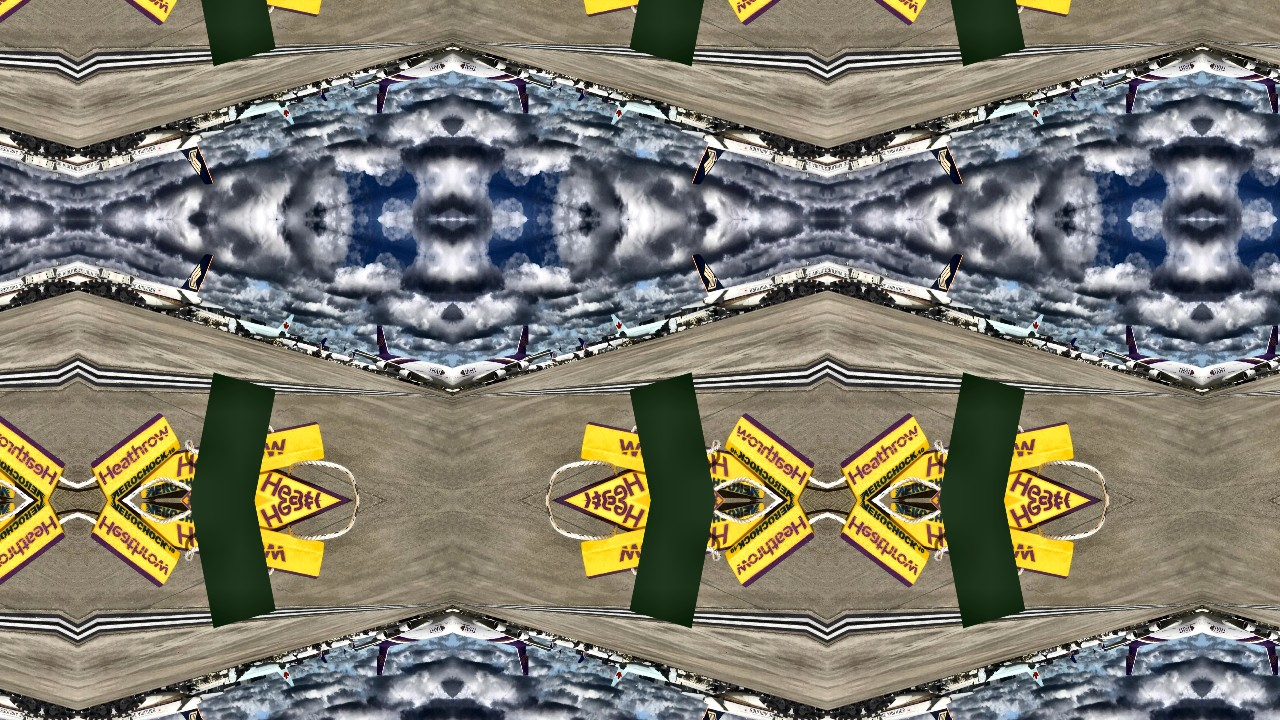chock: (133, 375, 332, 501), (573, 375, 772, 501), (883, 375, 1082, 501), (133, 501, 332, 626), (573, 501, 772, 626), (883, 501, 1082, 626), (133, 0, 332, 64), (573, 0, 772, 64), (883, 0, 1082, 64), (82, 393, 186, 501), (719, 393, 823, 501), (832, 393, 936, 501), (82, 501, 186, 608), (719, 501, 823, 608), (832, 501, 936, 608), (0, 393, 73, 501), (0, 501, 73, 608), (237, 500, 396, 544), (509, 500, 668, 544), (987, 500, 1146, 544), (237, 457, 396, 500), (509, 457, 668, 500), (987, 457, 1146, 500), (82, 0, 186, 45), (719, 0, 823, 45), (832, 0, 936, 45), (0, 0, 73, 45), (0, 375, 22, 501), (0, 501, 22, 626), (0, 0, 22, 64), (1259, 500, 1280, 544), (1259, 457, 1280, 500)
